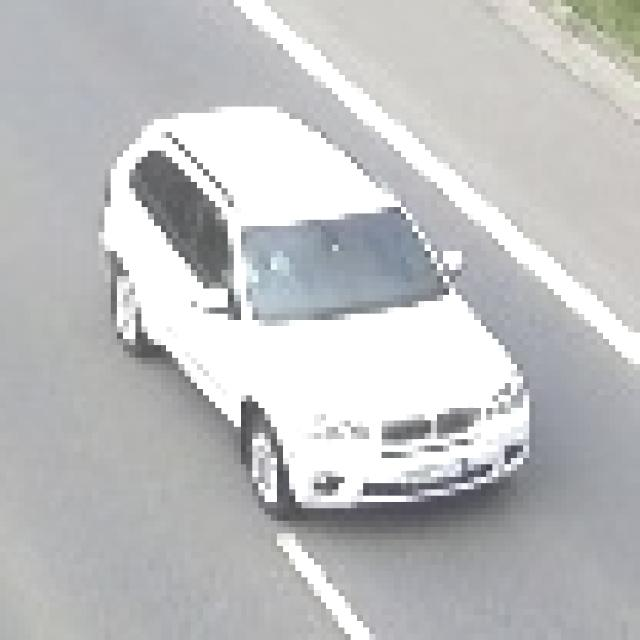SUV: (120, 114, 520, 496)
